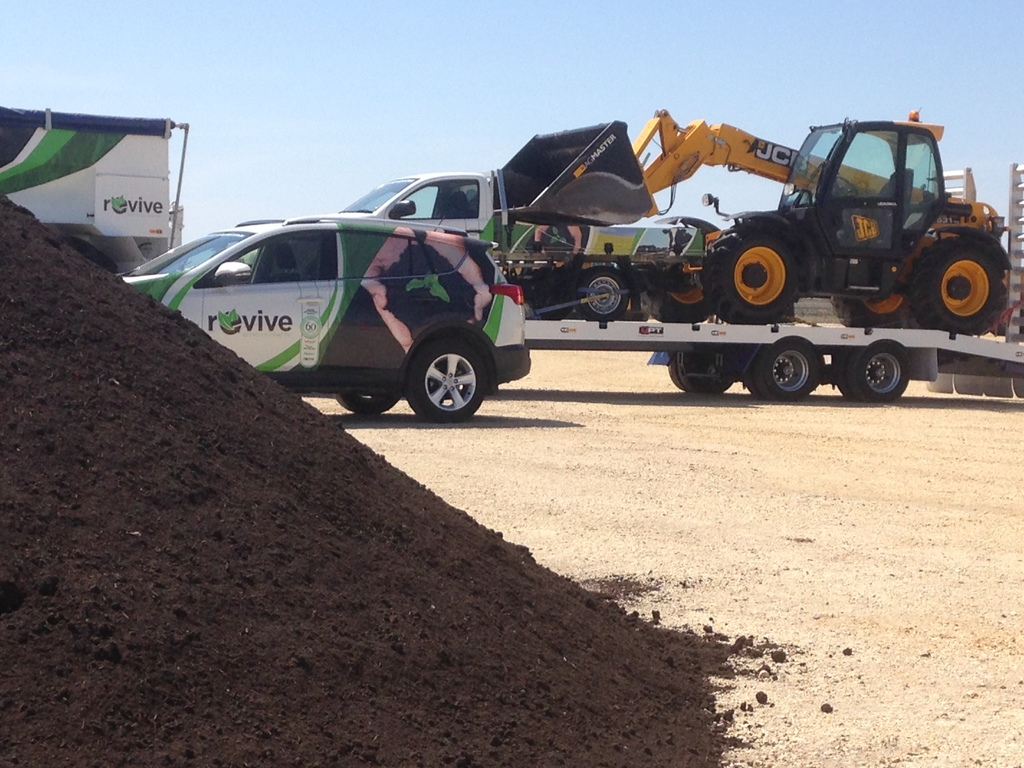Car: (112, 219, 529, 419)
